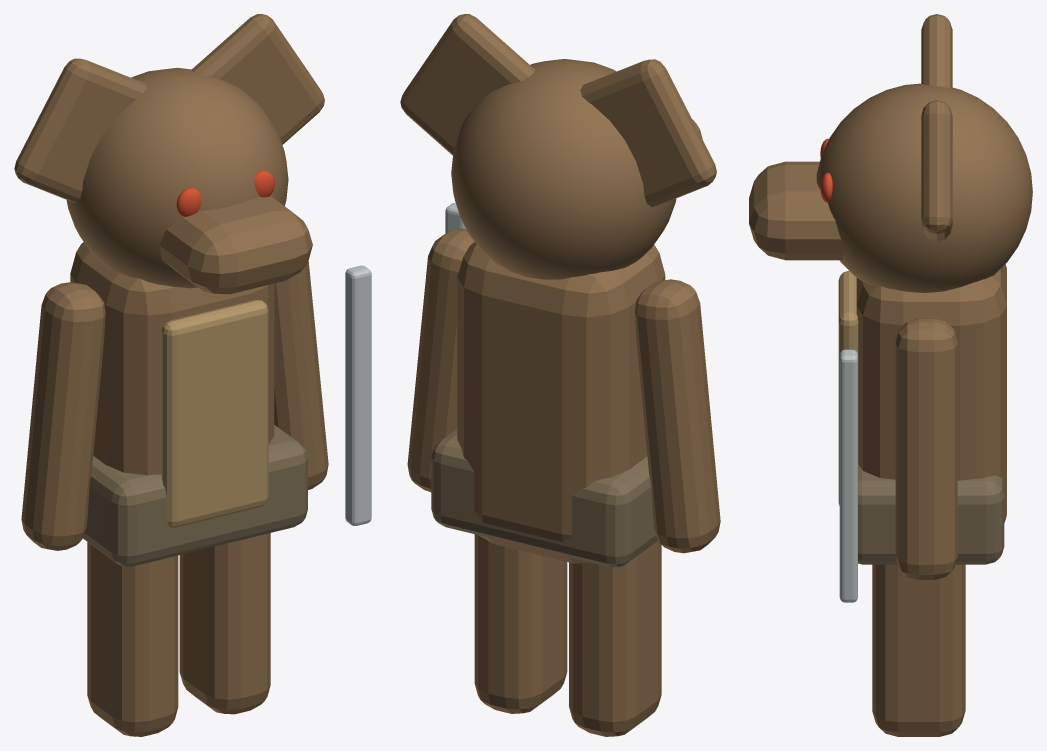
File: kobold_129.glb
The picture shows the model from 3 angles, left to right: view 1: azimuth 30°, elevation 25°; view 2: azimuth 150°, elevation 25°; view 3: azimuth 270°, elevation 25°; orthographic projection. The views are drawn at different scales.
Parts seen in each view (by area): view 1: Head, Belly scales, Kobold arm, Scaled kobold torso, Clawed leg, Clawed leg.001, Rag waist wrap, Dog-like muzzle, Perked pointed ear, Kobold arm.001, Perked pointed ear.001, Kobold dagger (+1 smaller); view 2: Scaled kobold torso, Head, Kobold arm, Clawed leg, Clawed leg.001, Rag waist wrap, Perked pointed ear, Kobold arm.001, Perked pointed ear.001; view 3: Head, Scaled kobold torso, Kobold arm.001, Clawed leg.001, Rag waist wrap, Dog-like muzzle, Kobold dagger, Perked pointed ear.001, Perked pointed ear, Belly scales.
Part boxes in pixels (x1=…): Head: x1=66, y1=67, x2=288, y2=288; Belly scales: x1=161, y1=300, x2=268, y2=527; Kobold arm: x1=21, y1=282, x2=105, y2=550; Scaled kobold torso: x1=70, y1=242, x2=274, y2=475; Clawed leg: x1=87, y1=542, x2=178, y2=736; Clawed leg.001: x1=179, y1=533, x2=270, y2=714; Rag waist wrap: x1=83, y1=425, x2=307, y2=566; Dog-like muzzle: x1=159, y1=196, x2=312, y2=294; Perked pointed ear: x1=14, y1=58, x2=146, y2=202; Kobold arm.001: x1=274, y1=261, x2=328, y2=489; Perked pointed ear.001: x1=191, y1=14, x2=324, y2=144; Kobold dagger: x1=345, y1=265, x2=371, y2=525; Scaled kobold torso: x1=457, y1=242, x2=665, y2=563; Head: x1=451, y1=59, x2=676, y2=279; Kobold arm: x1=635, y1=279, x2=720, y2=553; Clawed leg: x1=569, y1=541, x2=661, y2=736; Clawed leg.001: x1=474, y1=534, x2=567, y2=713; Rag waist wrap: x1=431, y1=429, x2=657, y2=567; Perked pointed ear: x1=580, y1=59, x2=716, y2=207; Kobold arm.001: x1=407, y1=228, x2=474, y2=492; Perked pointed ear.001: x1=400, y1=14, x2=535, y2=155; Head: x1=816, y1=83, x2=1032, y2=292; Scaled kobold torso: x1=856, y1=264, x2=1006, y2=522; Kobold arm.001: x1=895, y1=318, x2=957, y2=579; Clawed leg.001: x1=872, y1=564, x2=965, y2=736; Rag waist wrap: x1=858, y1=465, x2=1004, y2=564; Dog-like muzzle: x1=749, y1=161, x2=844, y2=260; Kobold dagger: x1=839, y1=349, x2=857, y2=602; Perked pointed ear.001: x1=921, y1=100, x2=952, y2=241; Perked pointed ear: x1=921, y1=14, x2=952, y2=88; Belly scales: x1=838, y1=271, x2=858, y2=505.
Bounding box in the file's own units: 1.33 × 2.77 × 1.1.
